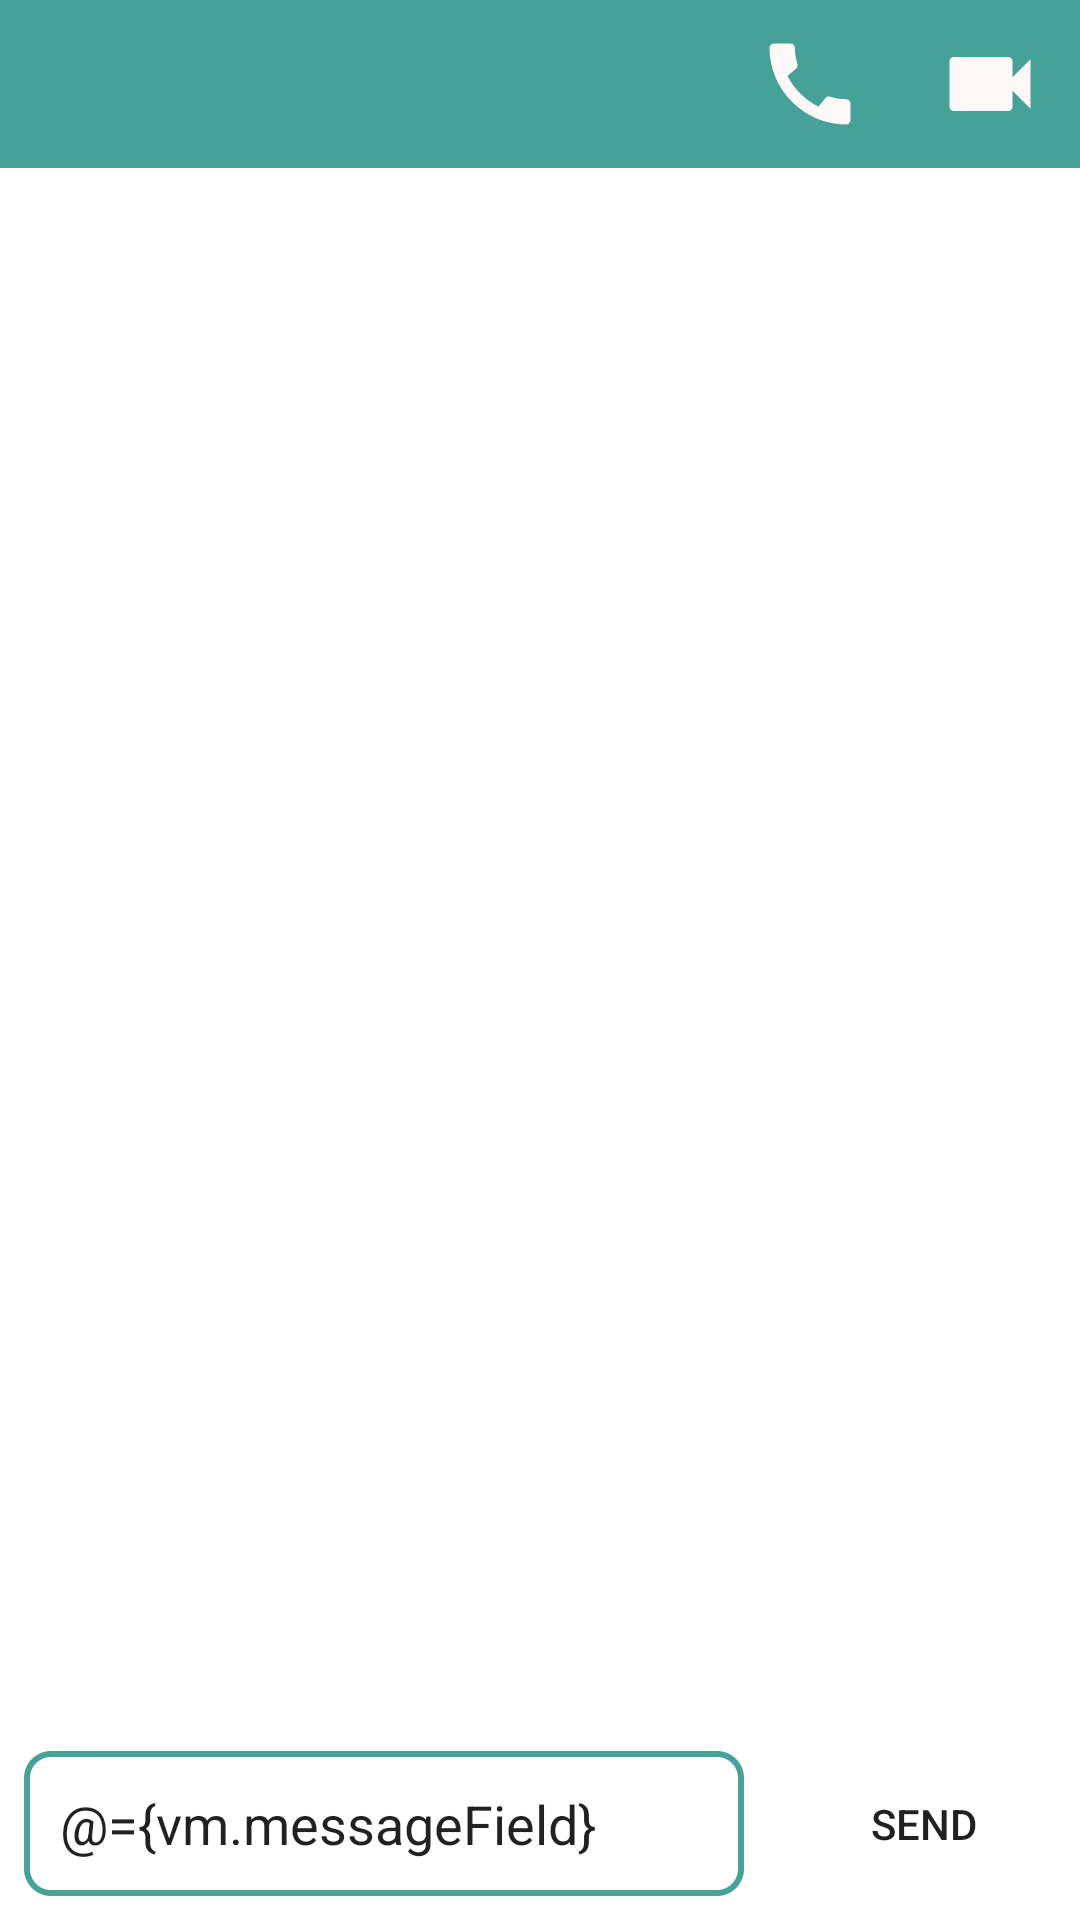

Named icons in this screenshot (1080*1920) and their centers, [x,y]:
call: [810,84]
video: [990,84]
